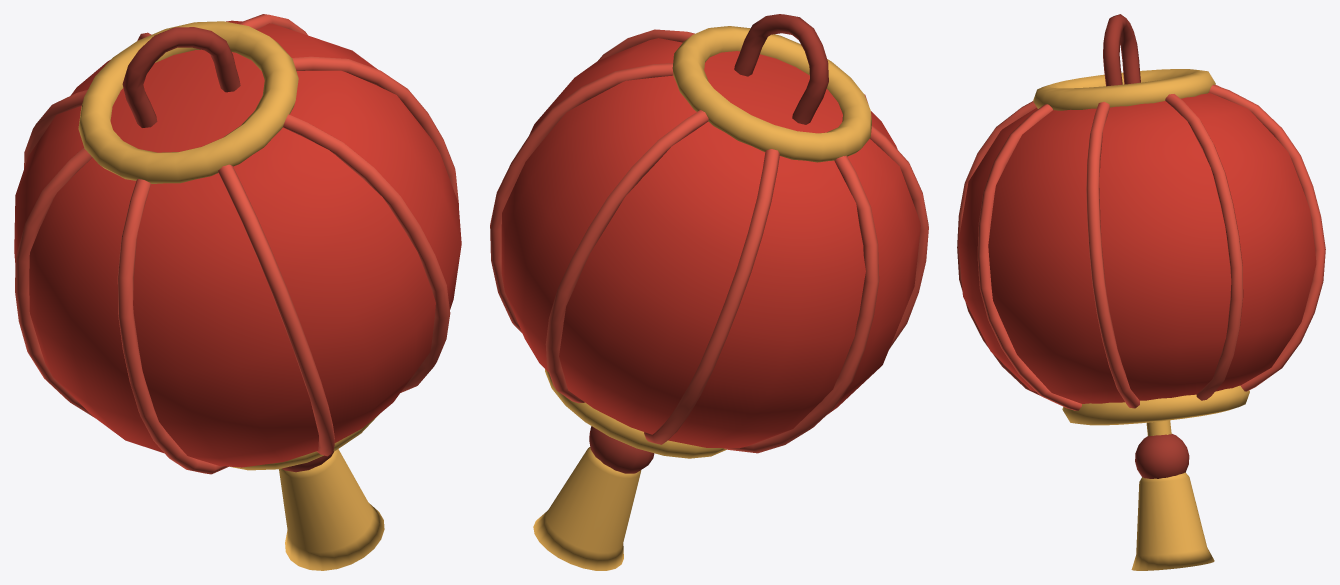
Rendered from silk-lantern.glb.
3 renders of one model, left to right at view 1: azimuth 30°, elevation 25°; view 2: azimuth 150°, elevation 25°; view 3: azimuth 270°, elevation 25°, orthographic. The views are drawn at different scales.
Visible parts, largest first — view 1: silk-lantern; view 2: silk-lantern; view 3: silk-lantern.
Boxes of the visible parts, x1,y1,x2,y2 form: silk-lantern: [14, 14, 461, 570]; silk-lantern: [490, 14, 928, 570]; silk-lantern: [957, 14, 1325, 570].
Bounding box in the file's own units: 0.606 × 0.8703 × 0.5988.
